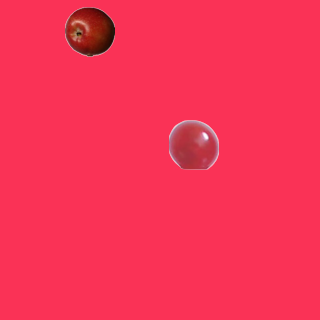Apple Braeburn: (64, 6, 114, 56)
Redcurrant: (168, 119, 218, 169)
